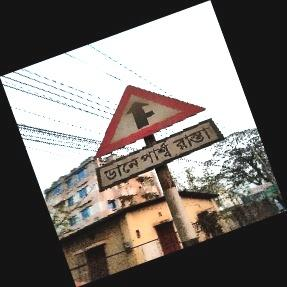Side-road-right: (92, 84, 219, 193)
